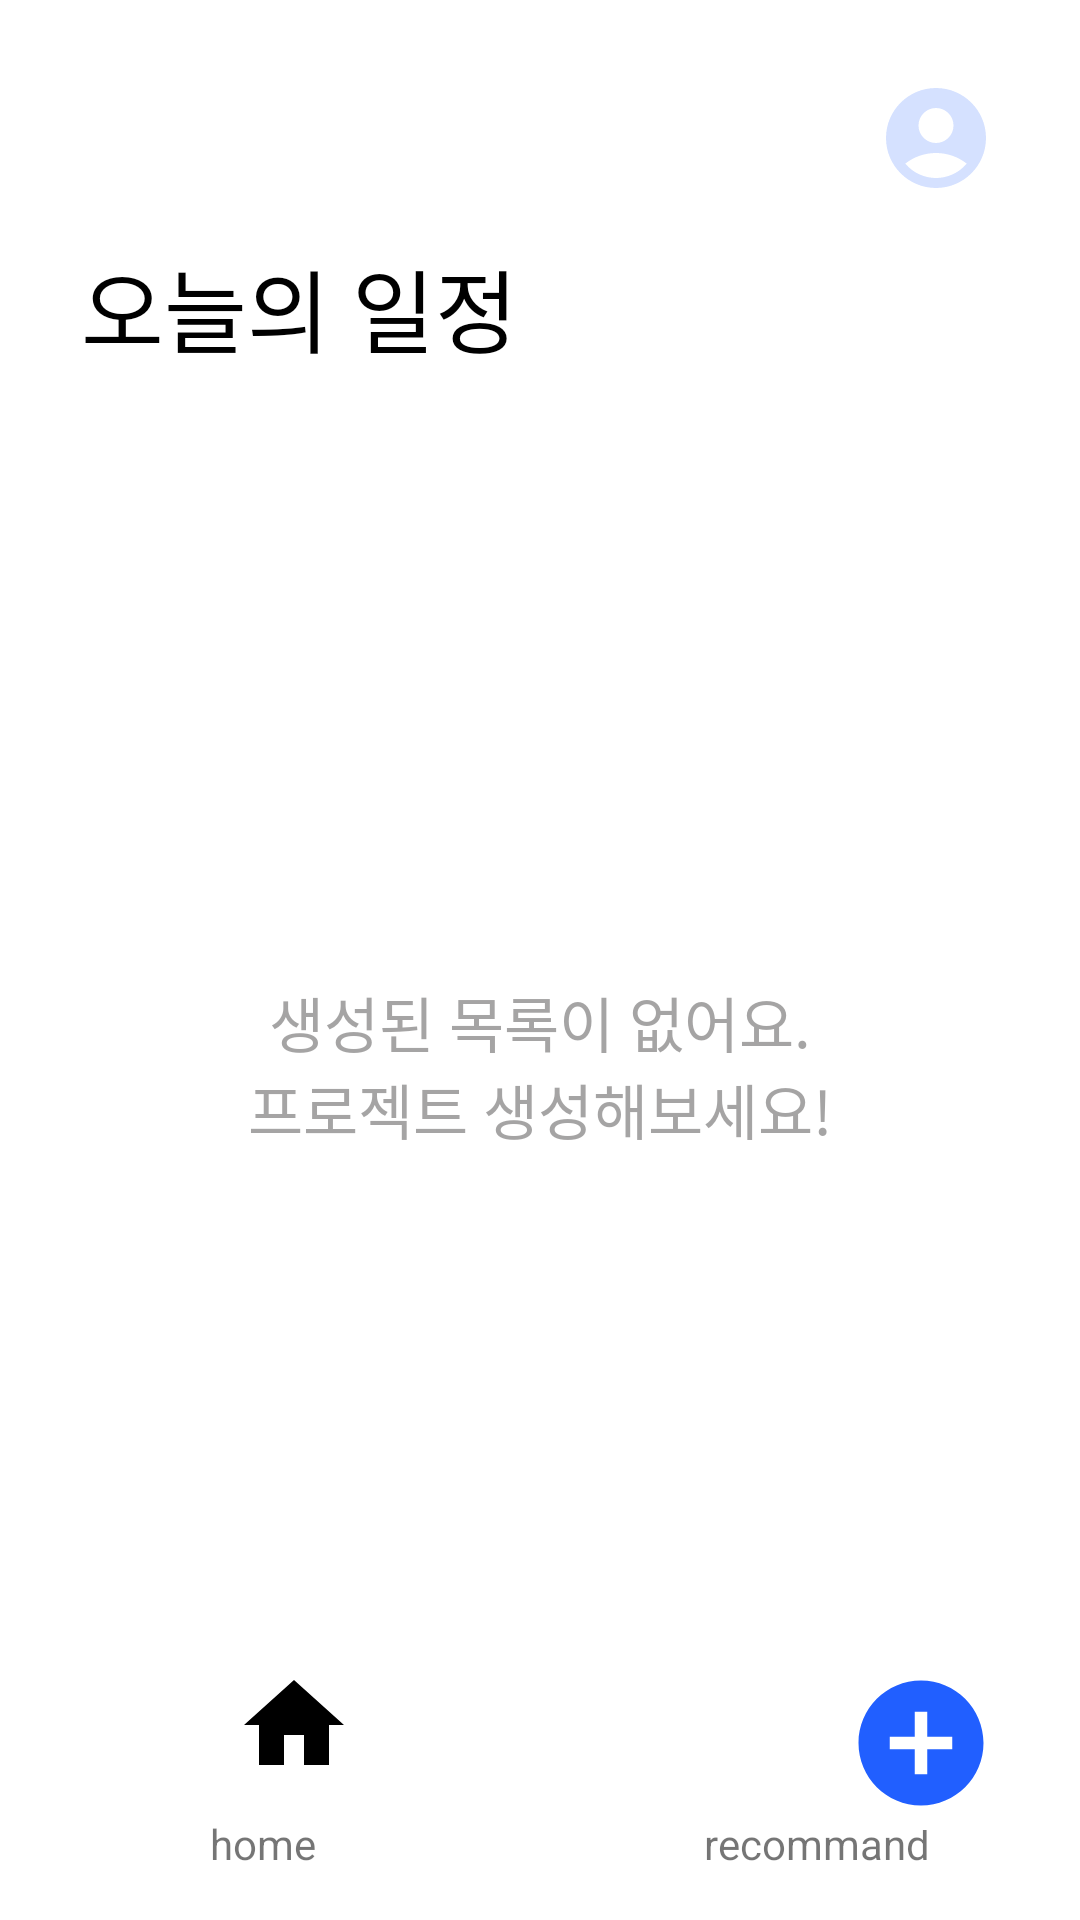

Icon bounding boxes for this 1080px×1920px phone screenshot, format {"left": x1, "top": y1, "right": x2, "bottom": y2}:
myaccount: {"left": 886, "top": 88, "right": 986, "bottom": 188}
